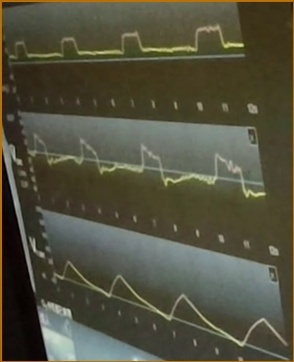Accumulation Flow: (28, 128, 267, 201)
Volume: (56, 256, 288, 348)
